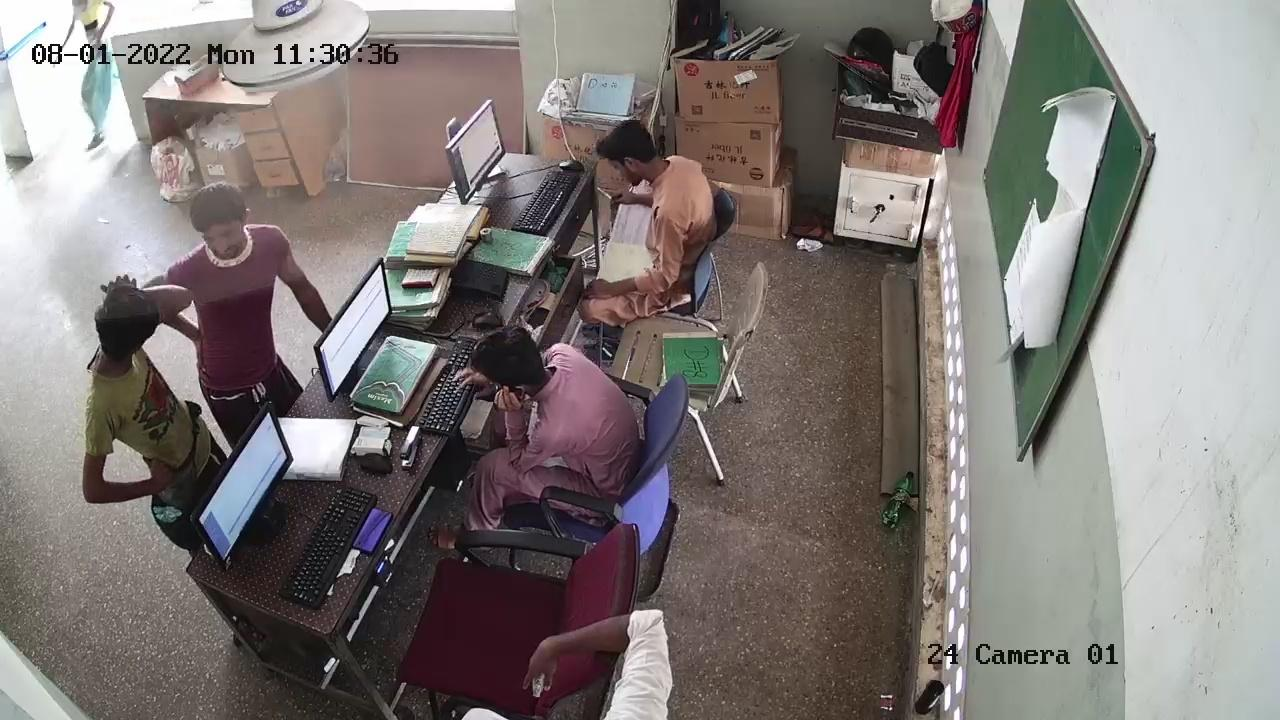person: (164, 190, 294, 402), (476, 320, 632, 492), (87, 277, 199, 488), (604, 123, 719, 283), (69, 7, 132, 150)
